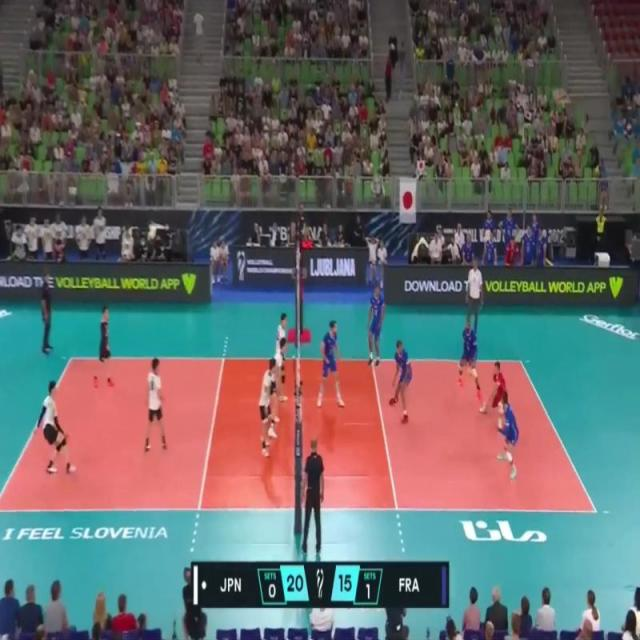volleyball: (465, 361, 475, 380)
